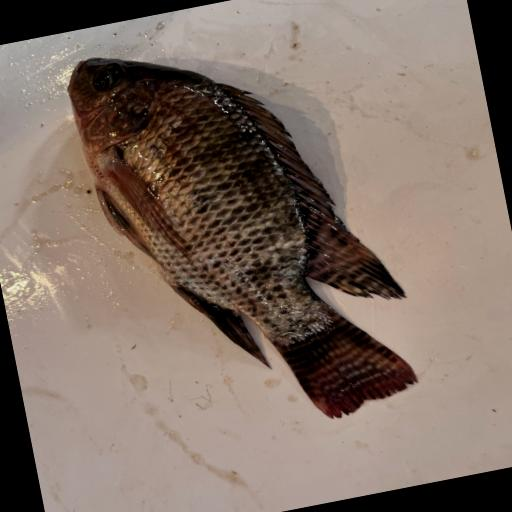Tilapia: (62, 7, 427, 458)
